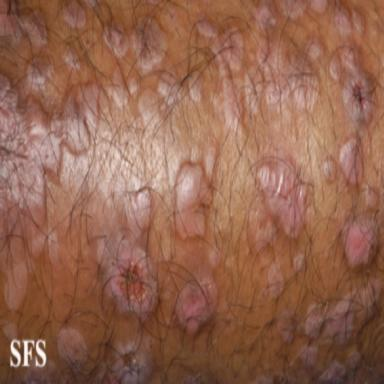Epidermolysis-Bullosa-Pruriginosa: (0, 75, 100, 211), (299, 276, 381, 367), (247, 157, 310, 252), (97, 225, 157, 321), (327, 3, 373, 126), (197, 21, 242, 131), (259, 37, 323, 110), (0, 231, 59, 310), (175, 144, 216, 239), (175, 276, 217, 333), (0, 1, 47, 47), (131, 17, 167, 75), (343, 215, 377, 268), (113, 338, 151, 383), (319, 352, 359, 383), (110, 65, 139, 107), (58, 328, 87, 368), (339, 138, 363, 184), (281, 0, 329, 21), (25, 58, 53, 94), (103, 23, 129, 60), (138, 89, 160, 131), (131, 189, 151, 234), (245, 66, 263, 116), (157, 73, 181, 110), (60, 0, 86, 30), (266, 262, 284, 298), (255, 3, 276, 30), (277, 311, 295, 342), (187, 72, 203, 103), (63, 49, 80, 70), (323, 157, 337, 182), (365, 183, 377, 207), (209, 246, 221, 268), (293, 254, 305, 272)
